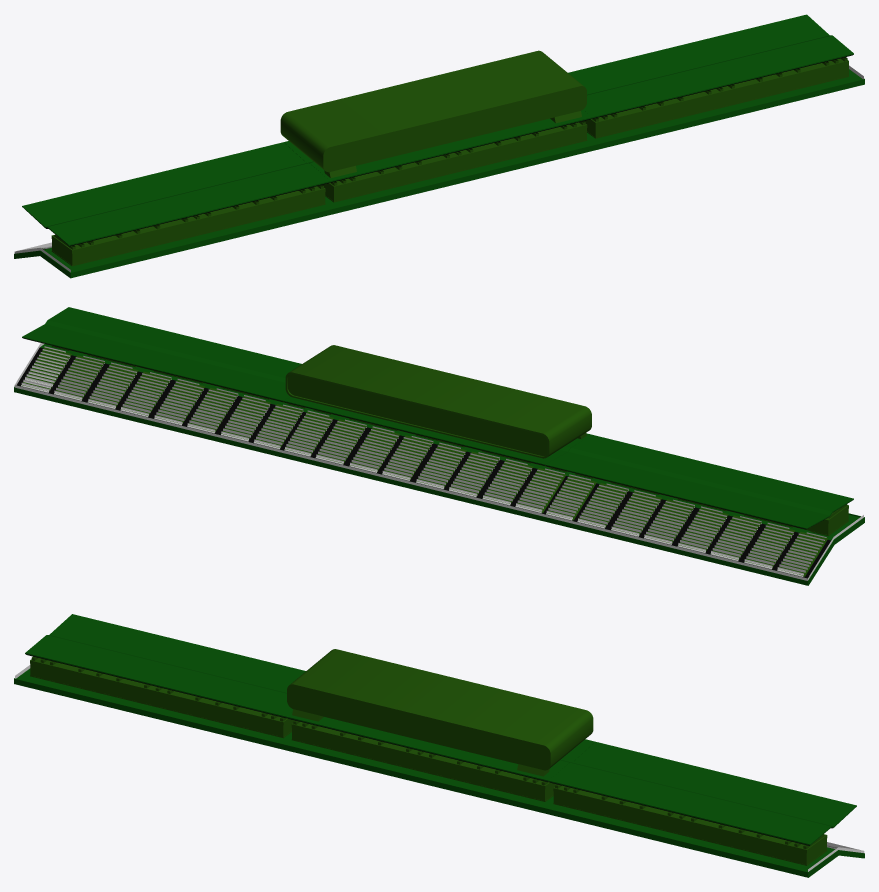
Rendered from T2_MainGrandstand.fbx.
3 views of the same model, one above another, from view 1: azimuth 30°, elevation 25°; view 2: azimuth 150°, elevation 25°; view 3: azimuth 330°, elevation 25° (orthographic).
Visible parts, largest first — view 1: T2_MainGrandstand_Top, T2_MainGrandstand_Top2, T2_MainGrandstand_Base, T2_MainGrandstand_Mid3, T2_MainGrandstand_Mid, T2_MainGrandstand_Mid2; view 2: T2_MainGrandstand_Top, T2_MainGrandstand__Audience_alpha, T2_MainGrandstand_Top2, T2_MainGrandstand_Audience_far, T2_MainGrandstand_Base, T2_MainGrandstand_Chair1_ShadowOnly, T2_MainGrandstand_Fence_alpha, T2_MainGrandstand_Chair1_alpha, T2_MainGrandstand_Mid3; view 3: T2_MainGrandstand_Top, T2_MainGrandstand_Top2, T2_MainGrandstand_Base, T2_MainGrandstand_Mid, T2_MainGrandstand_Mid2, T2_MainGrandstand_Mid3.
Boxes of the visible parts, left/top/right/bottom form: T2_MainGrandstand_Top: left=22, top=14, right=853, bottom=246; T2_MainGrandstand_Top2: left=280, top=50, right=586, bottom=177; T2_MainGrandstand_Base: left=14, top=69, right=864, bottom=278; T2_MainGrandstand_Mid3: left=51, top=185, right=325, bottom=266; T2_MainGrandstand_Mid: left=585, top=57, right=848, bottom=138; T2_MainGrandstand_Mid2: left=323, top=121, right=587, bottom=202; T2_MainGrandstand_Top: left=22, top=307, right=853, bottom=529; T2_MainGrandstand__Audience_alpha: left=21, top=346, right=826, bottom=576; T2_MainGrandstand_Top2: left=285, top=345, right=591, bottom=458; T2_MainGrandstand_Audience_far: left=28, top=347, right=828, bottom=576; T2_MainGrandstand_Base: left=14, top=344, right=864, bottom=585; T2_MainGrandstand_Chair1_ShadowOnly: left=22, top=376, right=809, bottom=575; T2_MainGrandstand_Fence_alpha: left=14, top=343, right=863, bottom=580; T2_MainGrandstand_Chair1_alpha: left=23, top=356, right=826, bottom=574; T2_MainGrandstand_Mid3: left=575, top=473, right=848, bottom=536; T2_MainGrandstand_Top: left=25, top=614, right=856, bottom=845; T2_MainGrandstand_Top2: left=287, top=649, right=593, bottom=776; T2_MainGrandstand_Base: left=14, top=668, right=864, bottom=877; T2_MainGrandstand_Mid: left=553, top=784, right=827, bottom=865; T2_MainGrandstand_Mid2: left=291, top=720, right=555, bottom=801; T2_MainGrandstand_Mid3: left=30, top=656, right=294, bottom=738.
Bounding box in the file's own units: 120 × 12.15 × 14.84.
